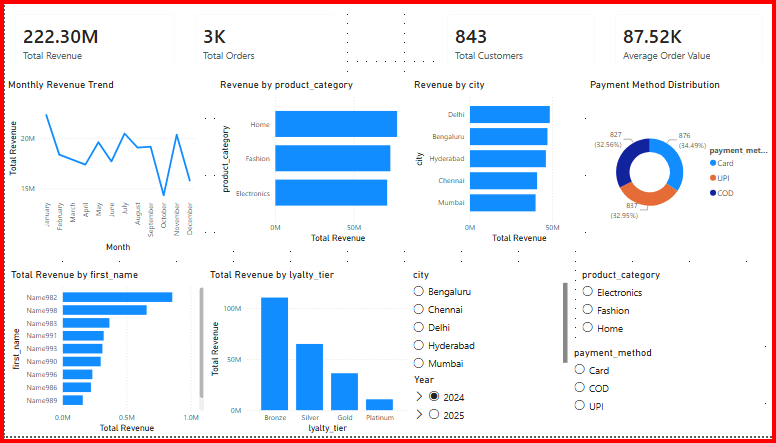

Layout of this report page (visuals, bound fields, positions):
{"tool":"powerbi","page":{"name":"Page 1","canvas":[1280,720],"ordinal":0},"visuals":[{"type":"cardVisual","fields":{"Data":["public ecommerce_data.Total Revenue"]},"box":[0,0,300,123.3],"z":0},{"type":"cardVisual","fields":{"Data":["public ecommerce_data.Total Orders"]},"box":[300,0,268.3,123.3],"z":1000},{"type":"cardVisual","fields":{"Data":["public ecommerce_data.Total Customers"]},"box":[720,0,280,123.3],"z":2000},{"type":"cardVisual","fields":{"Data":["public ecommerce_data.Average Order Value"]},"box":[1000,0,280,123.3],"z":3000},{"type":"lineChart","title":"Monthly Revenue Trend","fields":{"Y":["public ecommerce_data.Total Revenue"],"Category":["public ecommerce_data.order_date.Variation.Date Hierarchy.Month"]},"box":[0,123.3,321.7,295],"z":4000},{"type":"clusteredBarChart","title":"Revenue by product_category","fields":{"Category":["public ecommerce_data.product_category"],"Y":["public ecommerce_data.Total Revenue"]},"box":[353.3,123.3,323.3,280],"z":5000},{"type":"clusteredBarChart","title":"Revenue by city","fields":{"Category":["public ecommerce_data.city"],"Y":["public ecommerce_data.Total Revenue"]},"box":[676.7,123.3,280,280],"z":6000},{"type":"donutChart","title":"Payment Method Distribution","fields":{"Category":["public ecommerce_data.payment_method"],"Y":["public ecommerce_data.Total Orders"]},"box":[970,123.3,310,295],"z":7000},{"type":"barChart","fields":{"Category":["public ecommerce_data.first_name"],"Y":["public ecommerce_data.Total Revenue"]},"box":[5,440,331.7,280],"z":8000},{"type":"columnChart","fields":{"Category":["public ecommerce_data.lyalty_tier"],"Y":["public ecommerce_data.Total Revenue"]},"box":[336.7,440,340,280],"z":9000},{"type":"listSlicer","fields":{"Values":["public ecommerce_data.order_date.Variation.Date Hierarchy.Year","public ecommerce_data.order_date.Variation.Date Hierarchy.Quarter","public ecommerce_data.order_date.Variation.Date Hierarchy.Month","public ecommerce_data.order_date.Variation.Date Hierarchy.Day","public ecommerce_data.product_category","public ecommerce_data.payment_method","public ecommerce_data.city"]},"box":[676.7,615,280,105],"z":10000},{"type":"listSlicer","fields":{"Values":["public ecommerce_data.product_category"]},"box":[956.7,440,323.3,125],"z":11000},{"type":"listSlicer","fields":{"Values":["public ecommerce_data.city"]},"box":[675,440,268.3,175],"z":12000},{"type":"listSlicer","fields":{"Values":["public ecommerce_data.payment_method"]},"box":[943.3,570,323.3,150],"z":12001}]}

Visuals, with their boxes in screenshot pixels (x1, y1, x2, y2), scaled from the page's 1280x720 canvas onto the 776x443 screenshot:
cardVisual - public ecommerce_data.Total Revenue: rect(0, 0, 182, 76)
cardVisual - public ecommerce_data.Total Orders: rect(182, 0, 345, 76)
cardVisual - public ecommerce_data.Total Customers: rect(436, 0, 606, 76)
cardVisual - public ecommerce_data.Average Order Value: rect(606, 0, 775, 76)
"Monthly Revenue Trend" lineChart: rect(0, 76, 195, 257)
"Revenue by product_category" clusteredBarChart: rect(214, 76, 410, 248)
"Revenue by city" clusteredBarChart: rect(410, 76, 580, 248)
"Payment Method Distribution" donutChart: rect(588, 76, 775, 257)
barChart - public ecommerce_data.first_name x public ecommerce_data.Total Revenue: rect(3, 271, 204, 442)
columnChart - public ecommerce_data.lyalty_tier x public ecommerce_data.Total Revenue: rect(204, 271, 410, 442)
listSlicer - public ecommerce_data.order_date.Variation.Date Hierarchy.Year x public ecommerce_data.order_date.Variation.Date Hierarchy.Quarter: rect(410, 378, 580, 442)
listSlicer - public ecommerce_data.product_category: rect(580, 271, 775, 348)
listSlicer - public ecommerce_data.city: rect(409, 271, 572, 378)
listSlicer - public ecommerce_data.payment_method: rect(572, 351, 768, 442)
